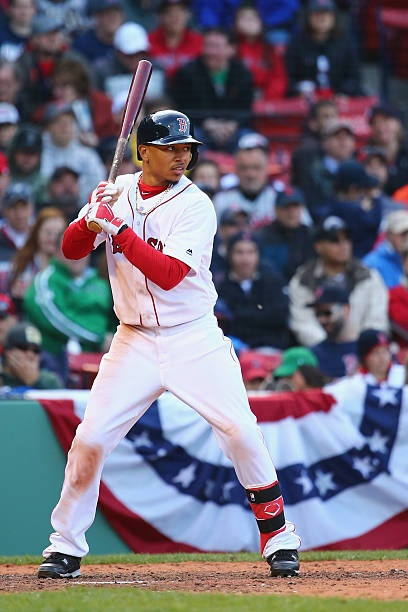bita: (100, 55, 152, 211)
